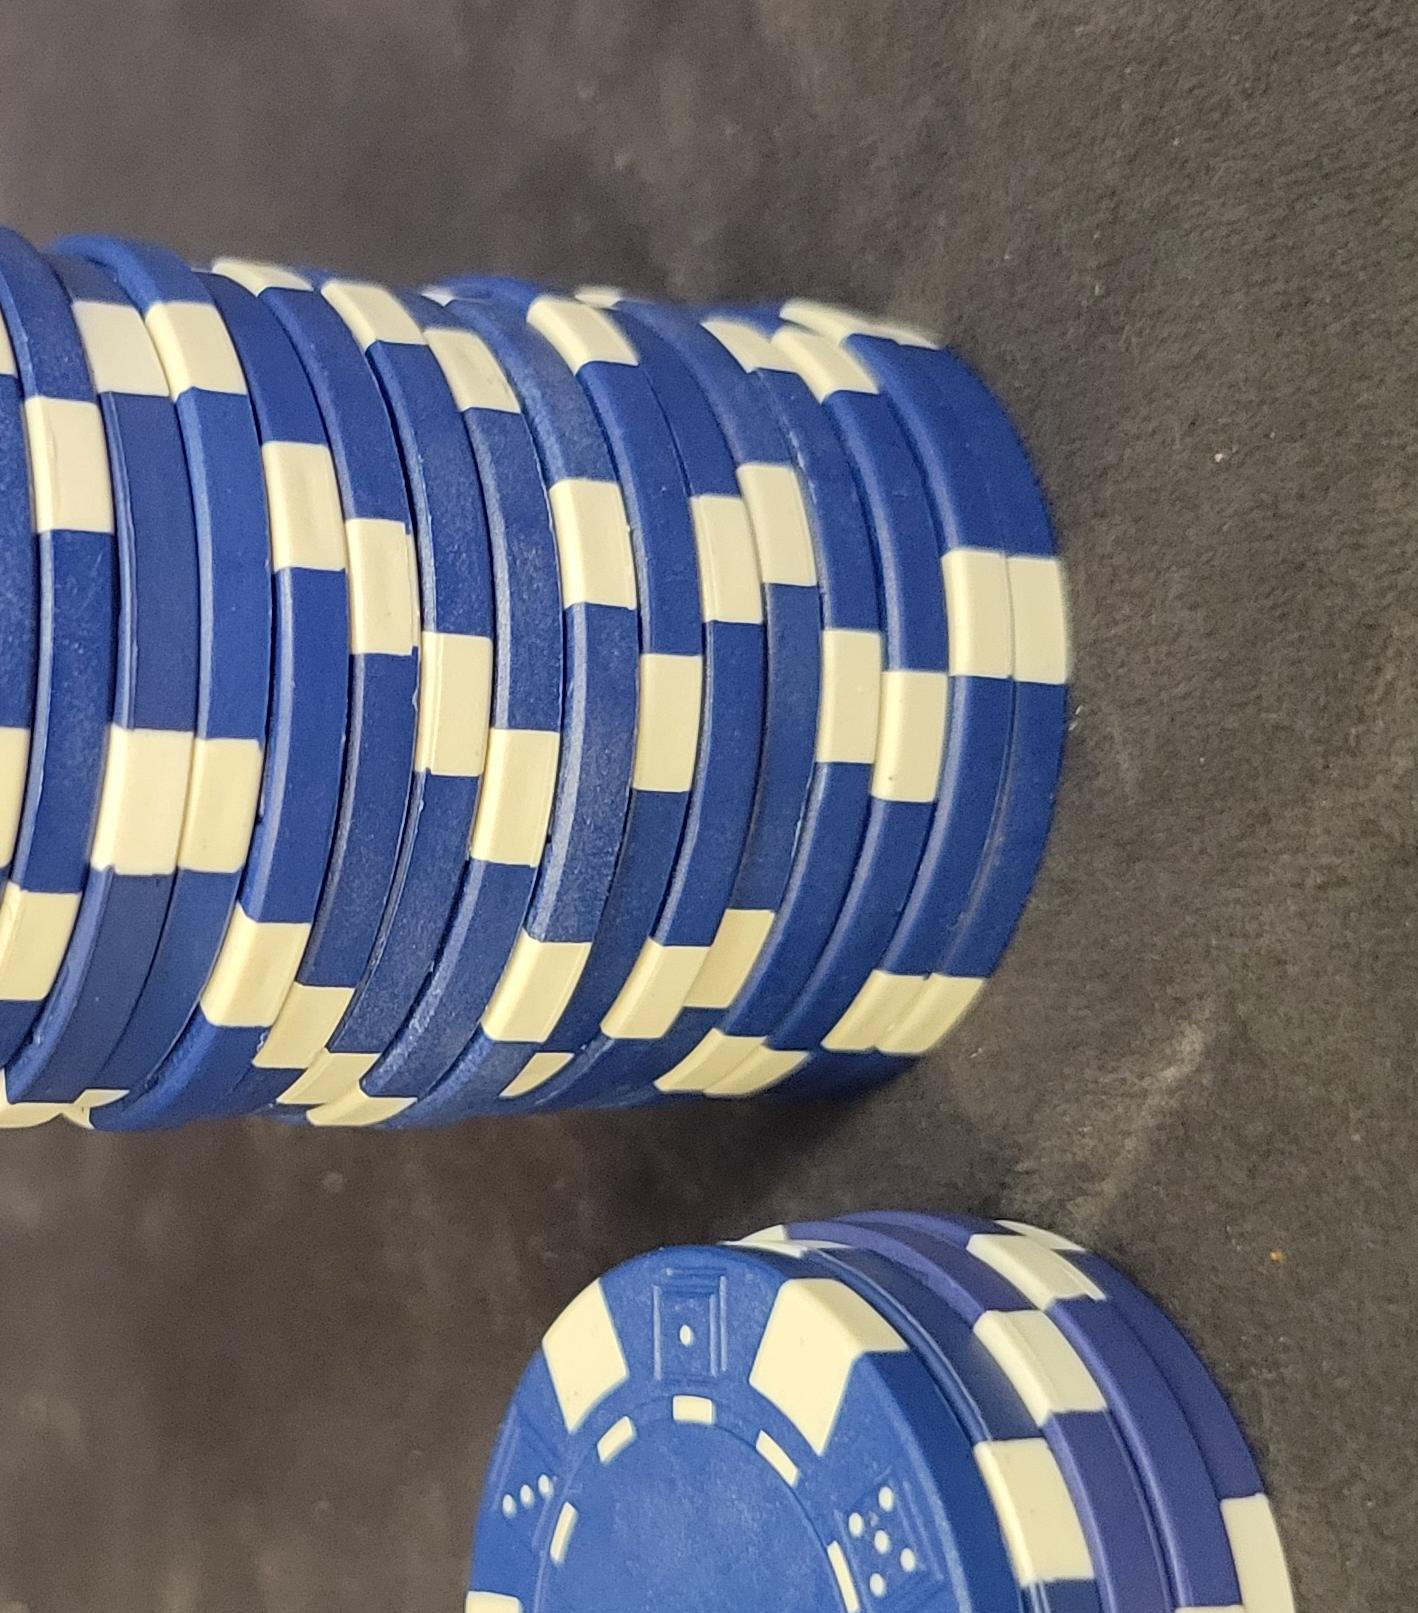Chip: (1, 192, 623, 1613)
